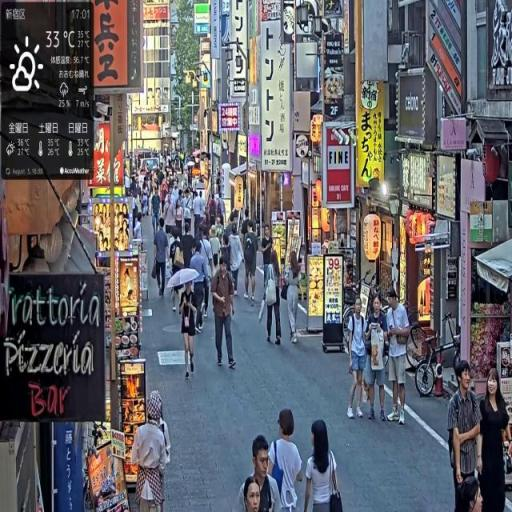person: (447, 358, 485, 512), (131, 395, 172, 512), (480, 367, 512, 512), (384, 287, 413, 426), (303, 420, 346, 512), (268, 409, 305, 512), (364, 294, 390, 425), (244, 433, 286, 510), (212, 253, 238, 373), (348, 295, 371, 420), (262, 245, 284, 347), (180, 279, 201, 381), (189, 238, 211, 331), (283, 250, 304, 346), (154, 217, 171, 301), (244, 222, 260, 303), (229, 228, 245, 298)
